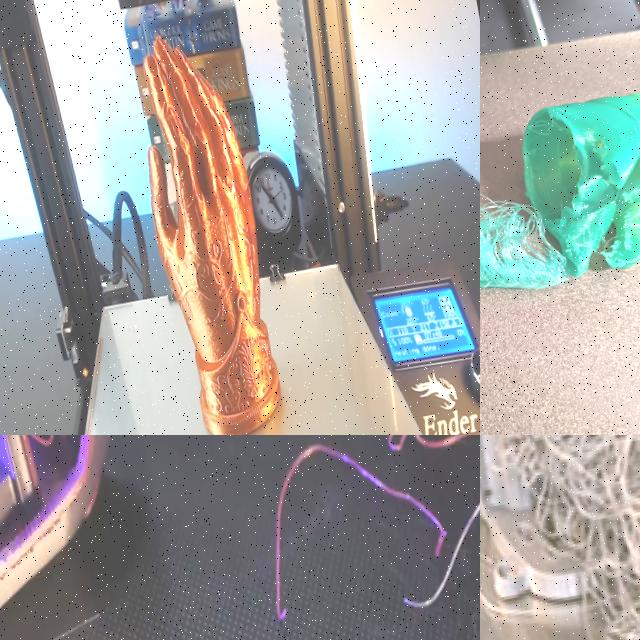spaghetti: (0, 435, 480, 640), (480, 435, 640, 640)
